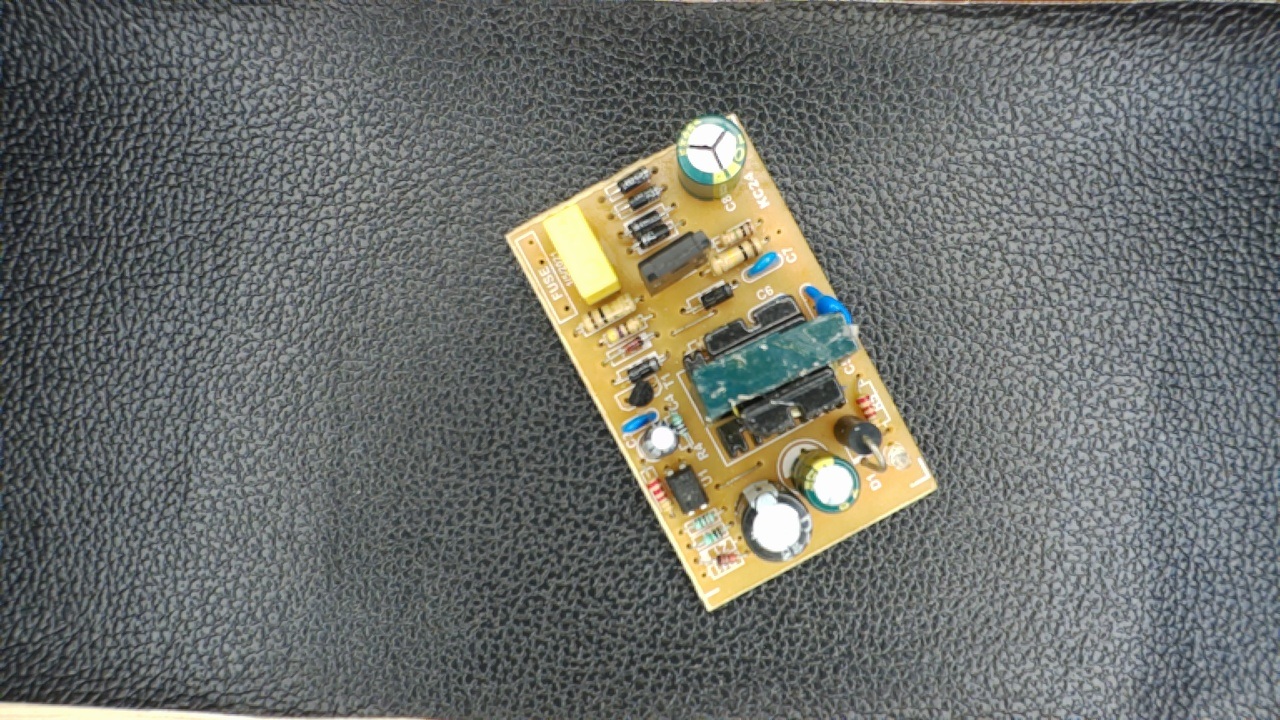hv_capacitor: (677, 114, 749, 198)
mov: (800, 282, 857, 338)
optocoupler: (659, 461, 716, 519)
